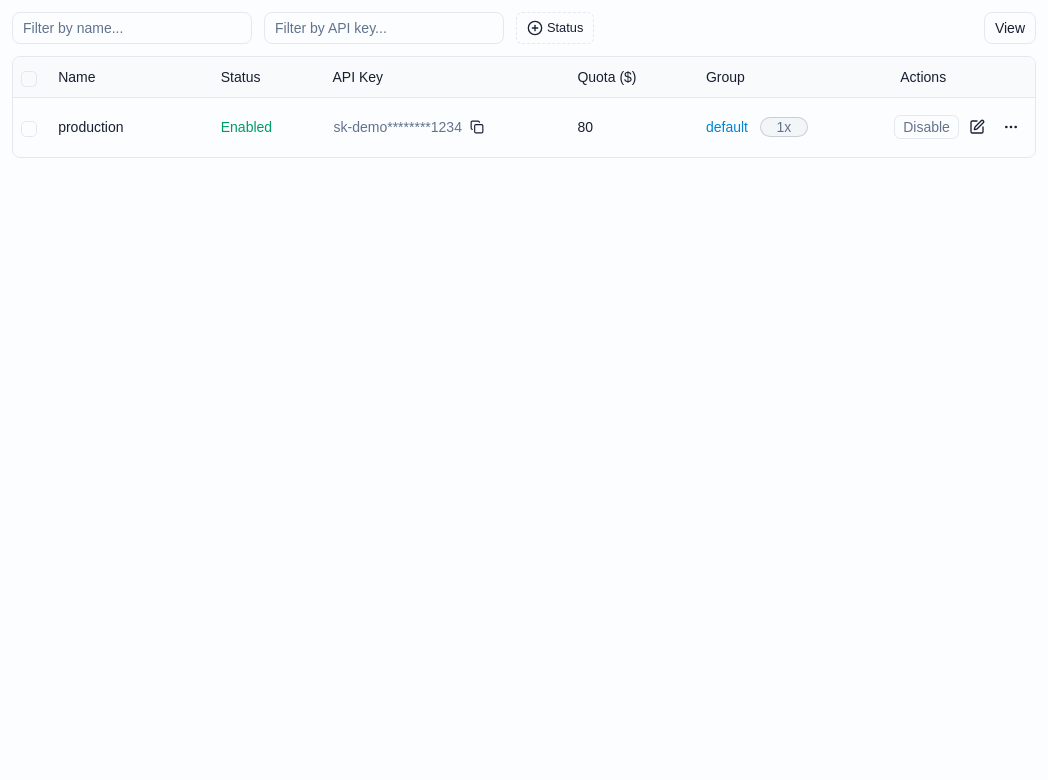
Test case: fetches a full key only on explicit copy and honors permission success=false
expect the text "production" is shown: met, box [58,119,124,135]
Step 1. Click the button named "Open menu" → {"x": 1011, "y": 127}, box [995,111,1027,143]
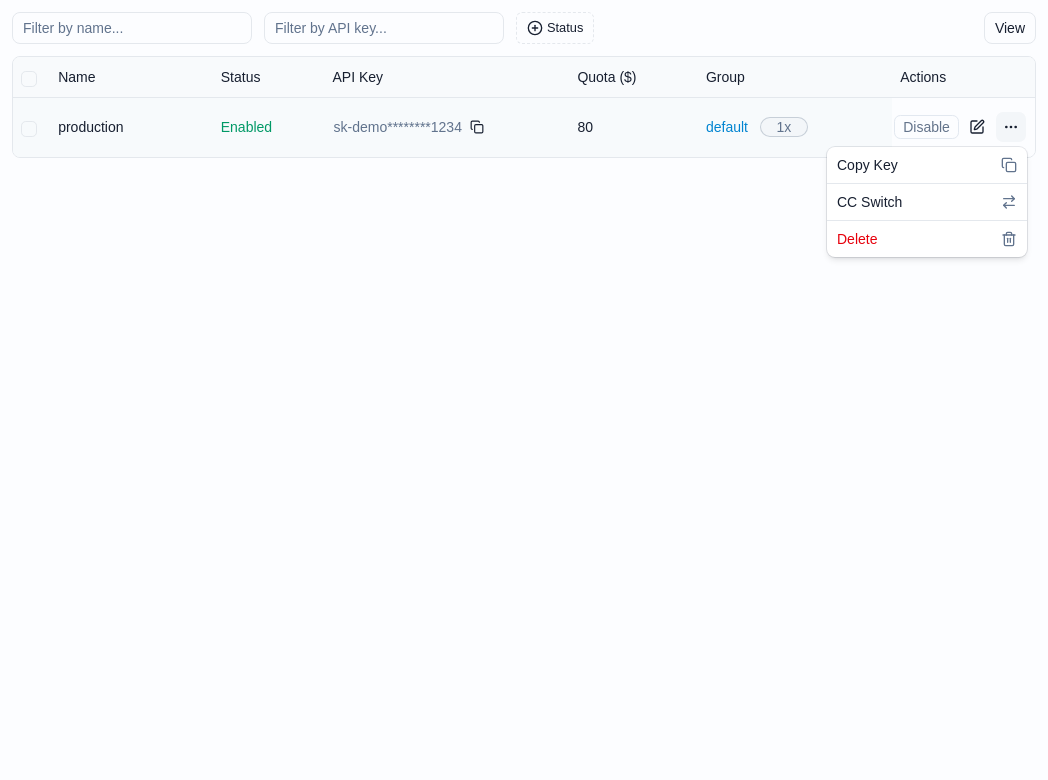
Step 2. Click the menu item "Copy Key" → {"x": 867, "y": 165}, box [837,157,1017,173]
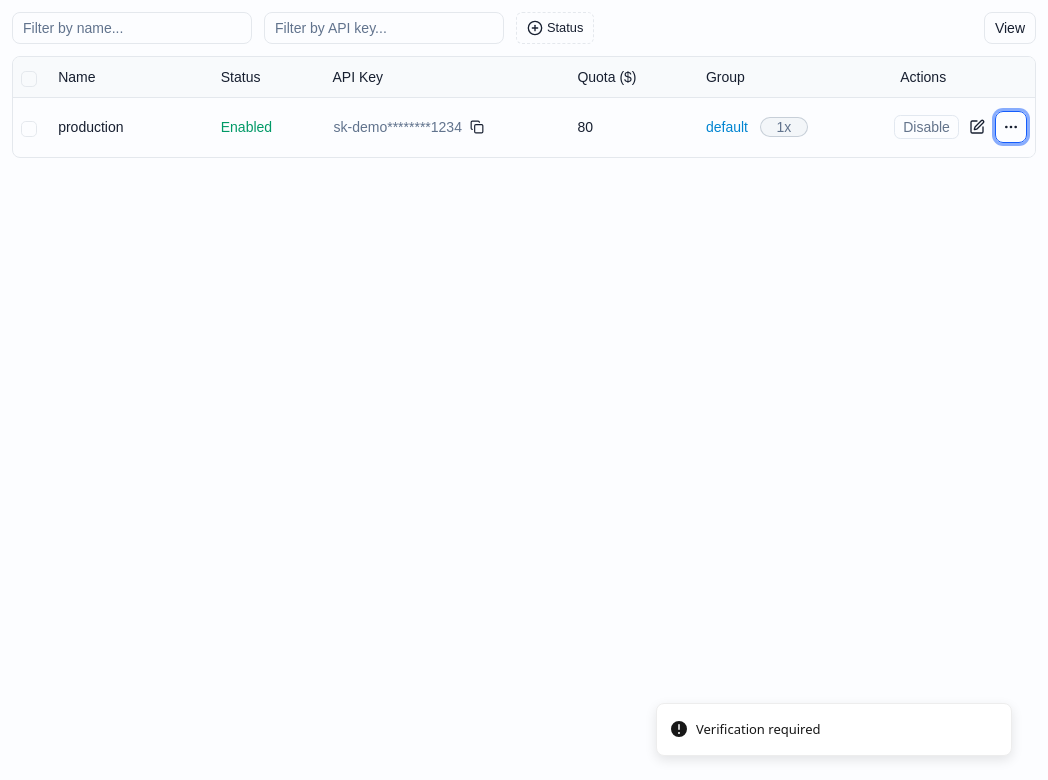
expect the text "Verification required" is shown: met, box [696,720,820,739]
